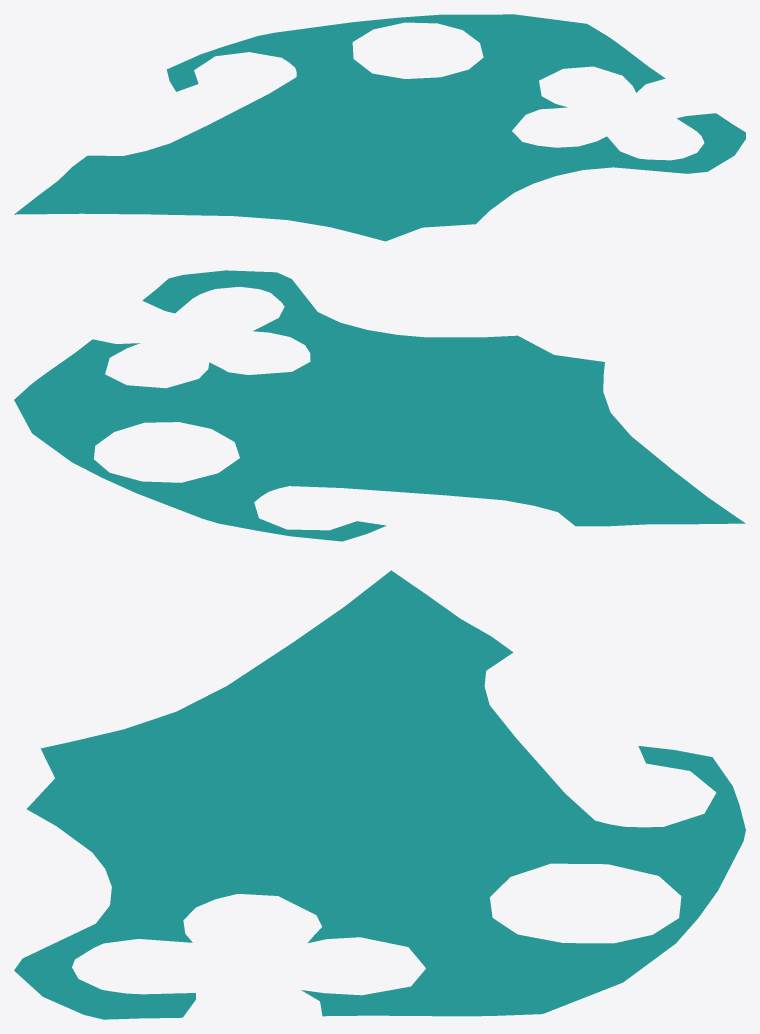
Rendered from frog_color_12.fbx.
The picture shows the model from 3 angles, top to bottom: view 1: azimuth 30°, elevation 25°; view 2: azimuth 150°, elevation 25°; view 3: azimuth 270°, elevation 25°; orthographic projection. The views are drawn at different scales.
Parts seen in each view (by area): view 1: frog_color_12; view 2: frog_color_12; view 3: frog_color_12.
Boxes of the visible parts, left/top/right/bottom form: frog_color_12: left=14, top=14, right=745, bottom=241; frog_color_12: left=14, top=270, right=745, bottom=541; frog_color_12: left=14, top=570, right=745, bottom=1019.
Size of the model in its own units: 94.06 by 0 by 64.76.
